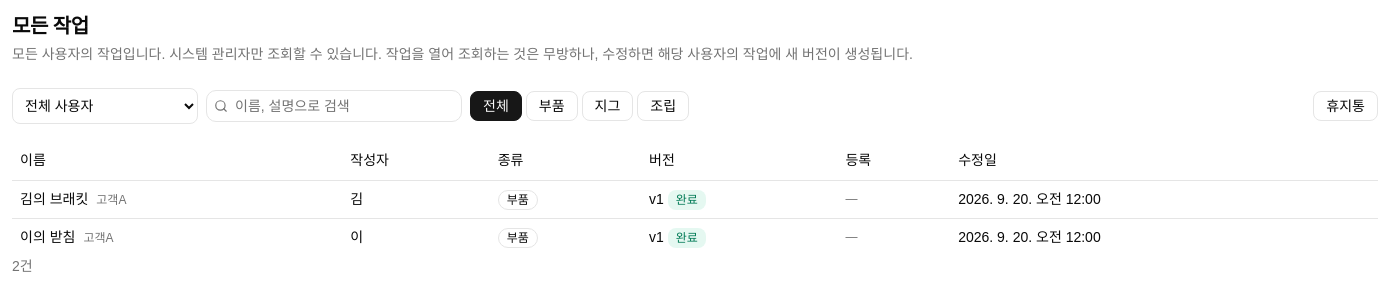
Scenario: 모든 사람의 작업을 둘러보고, 사람으로 거른다
Expected: the link "김의 브래킷" is shown, [20,191,88,207]
Expected: the link "이의 받침" is shown, [20,229,75,245]
Select "이 (lee@example.local)" in the dropdown named "작성자" at point(105, 106), box [12,88,198,124]
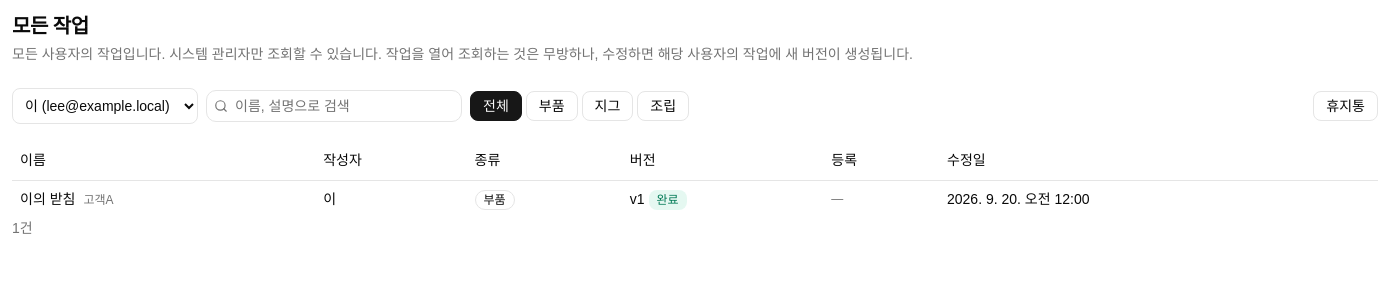
Expected: the link "이의 받침" is shown, [20,191,75,207]
Result: the link "김의 브래킷" is gone
